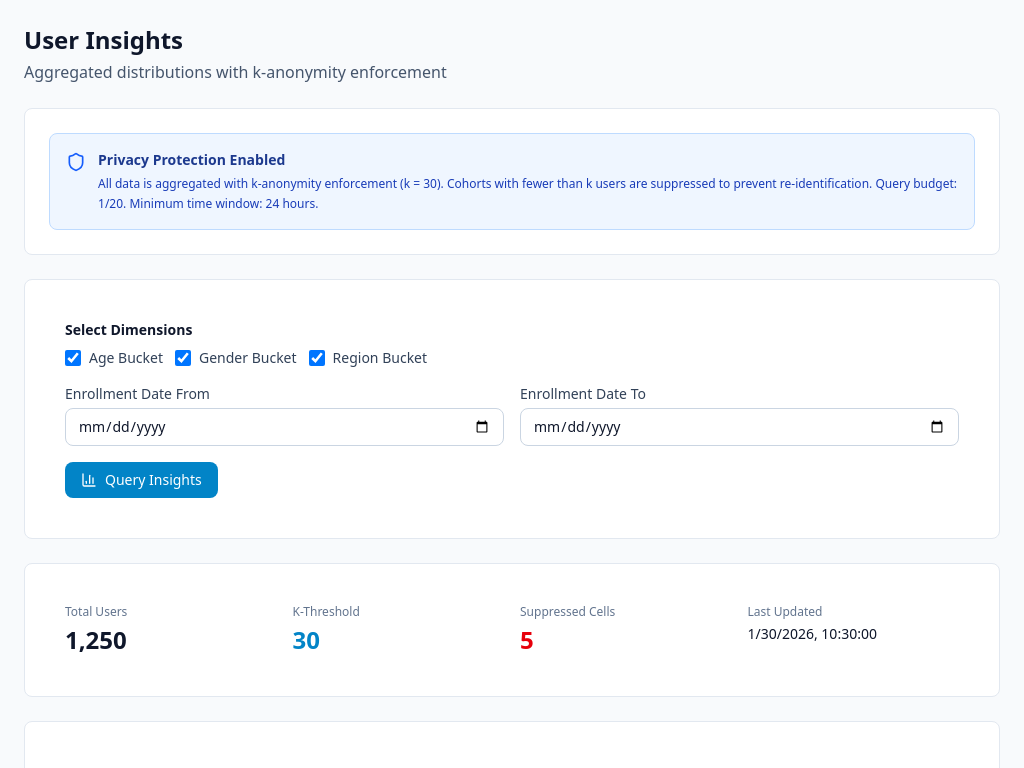
it: Insights Page › Query Tracking › shows queries remaining
Click the button "Query Insights" at (141,480), box left=65, top=462, right=218, bottom=498
(page scrolled)
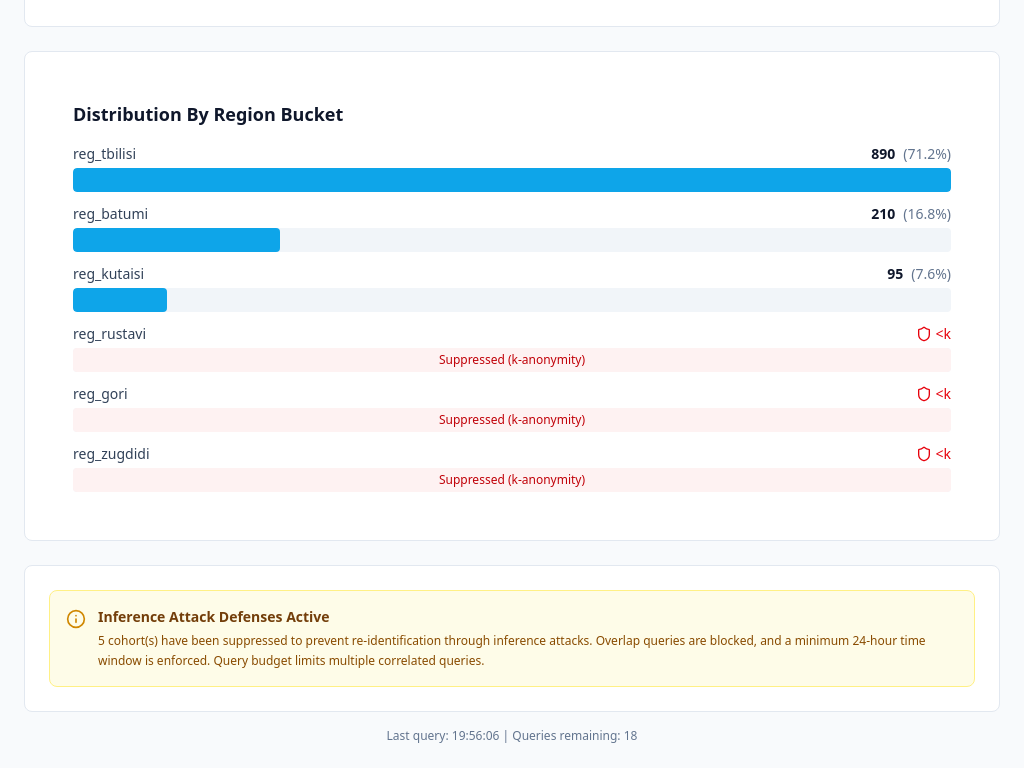
expect the text "Last query: 19:56:06 | Queries remaining: 18" is shown: met, box left=387, top=727, right=637, bottom=744
